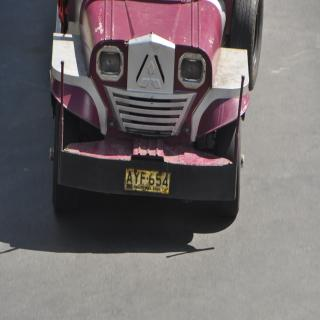license: (125, 169, 172, 195)
